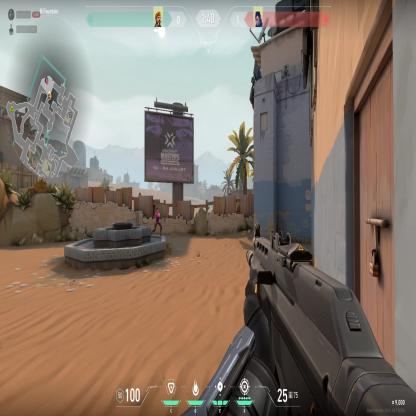enemy: (151, 207, 162, 235)
